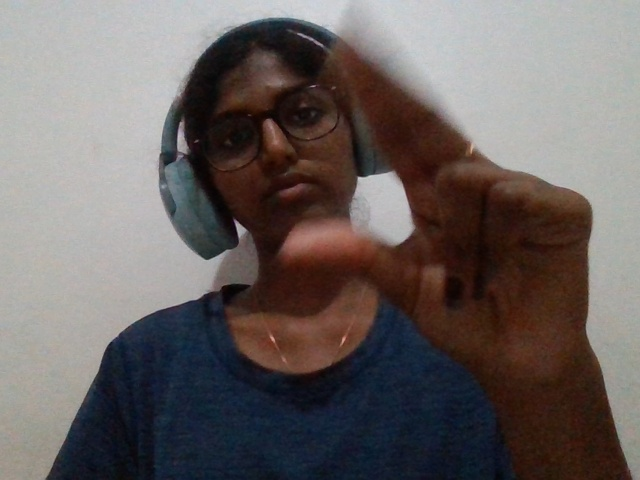No: (227, 16, 622, 455)
